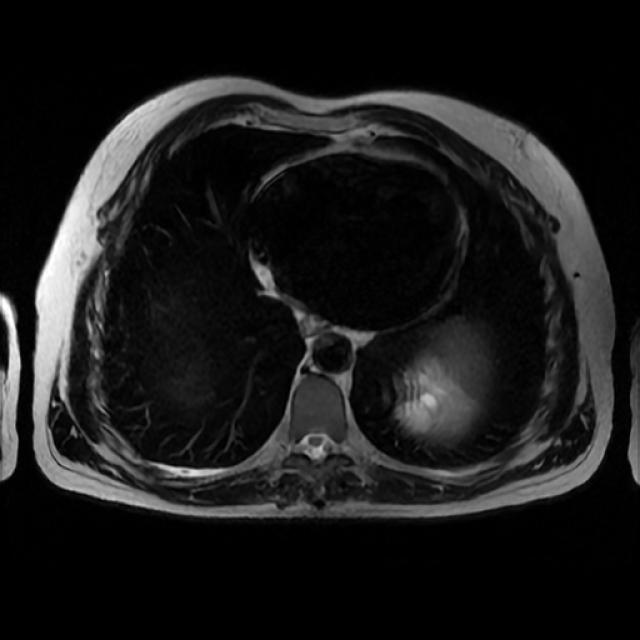sol: (393, 370, 449, 434)
